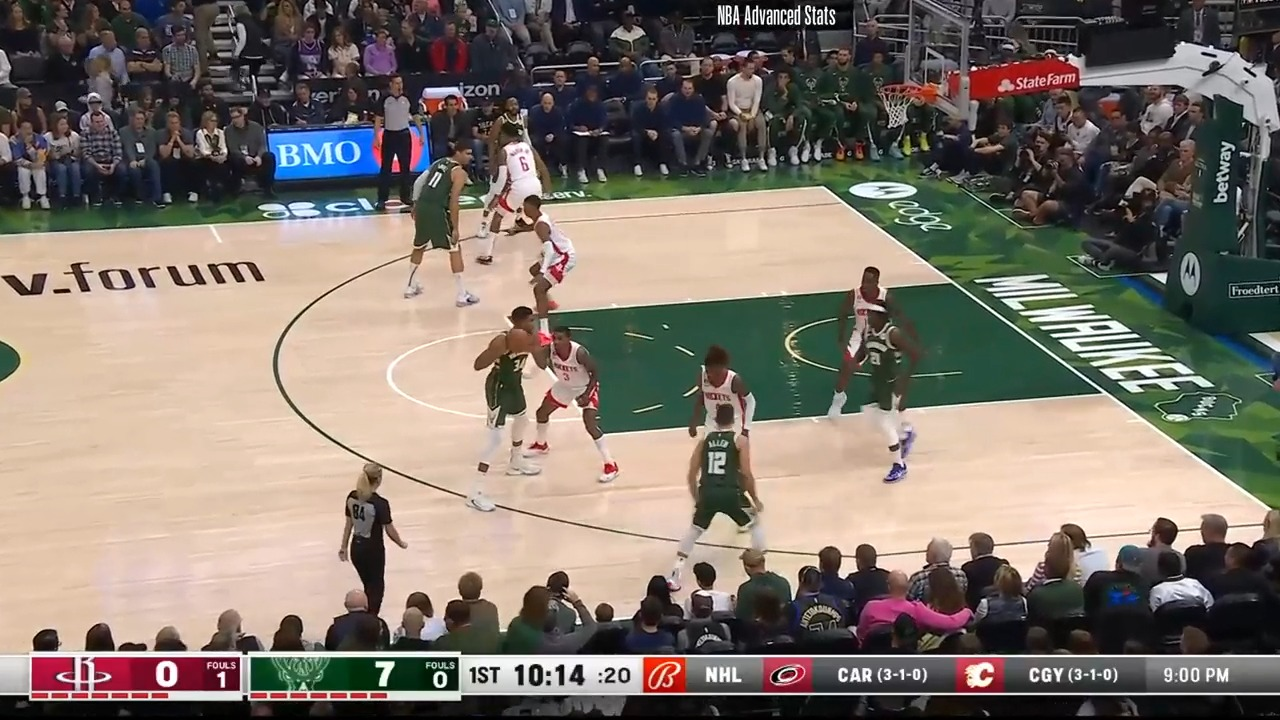net: (878, 79, 946, 128)
player: (514, 310, 623, 485), (468, 302, 555, 512), (838, 288, 927, 491), (670, 397, 767, 571), (402, 138, 482, 306), (337, 457, 414, 614), (826, 261, 899, 420), (490, 197, 582, 313), (680, 346, 759, 459), (488, 122, 556, 239)
referee: (370, 74, 422, 216)
